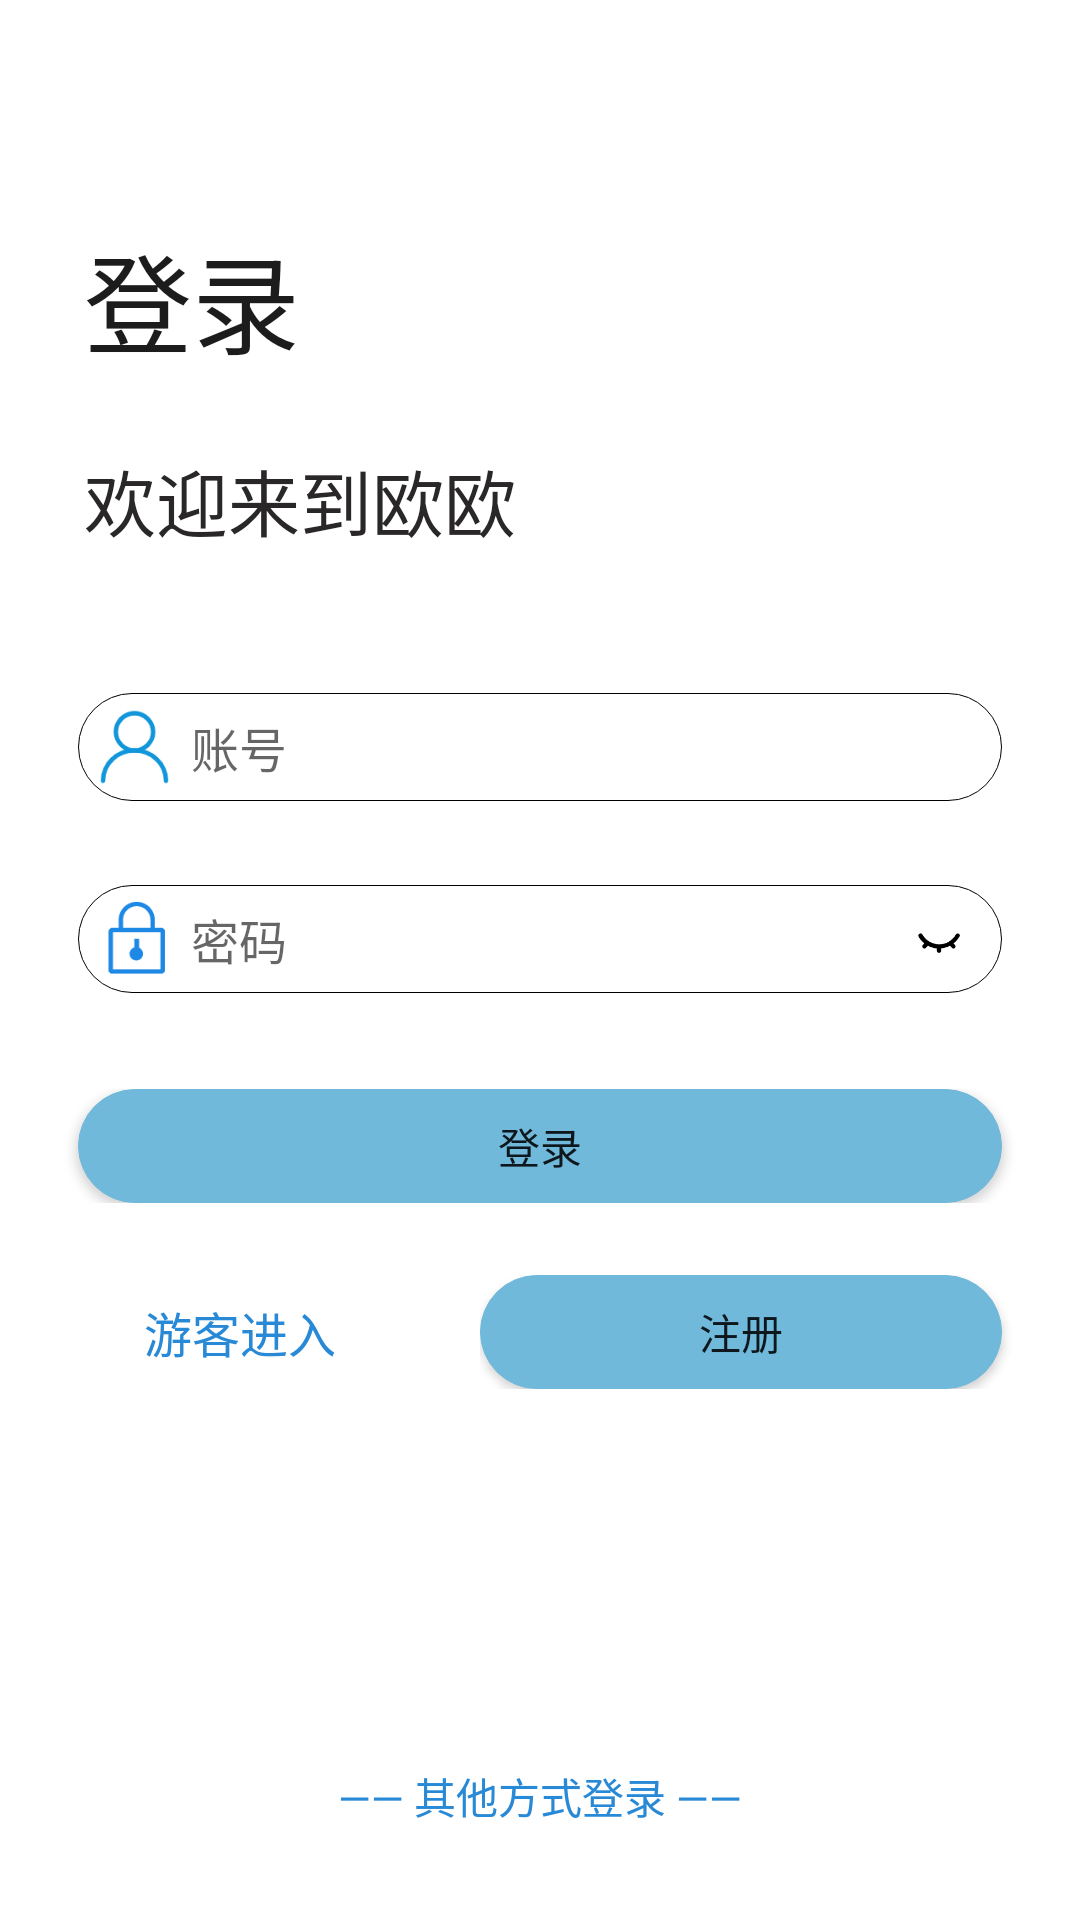

Icon click points for this 1080w x 1920h phone screenshot, format (x=x, y=y):
eye close: (x=939, y=943)
lock: (x=136, y=938)
user: (x=134, y=747)
